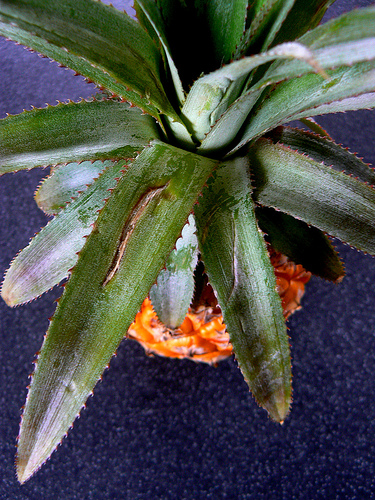pineapple: (0, 0, 373, 487)
